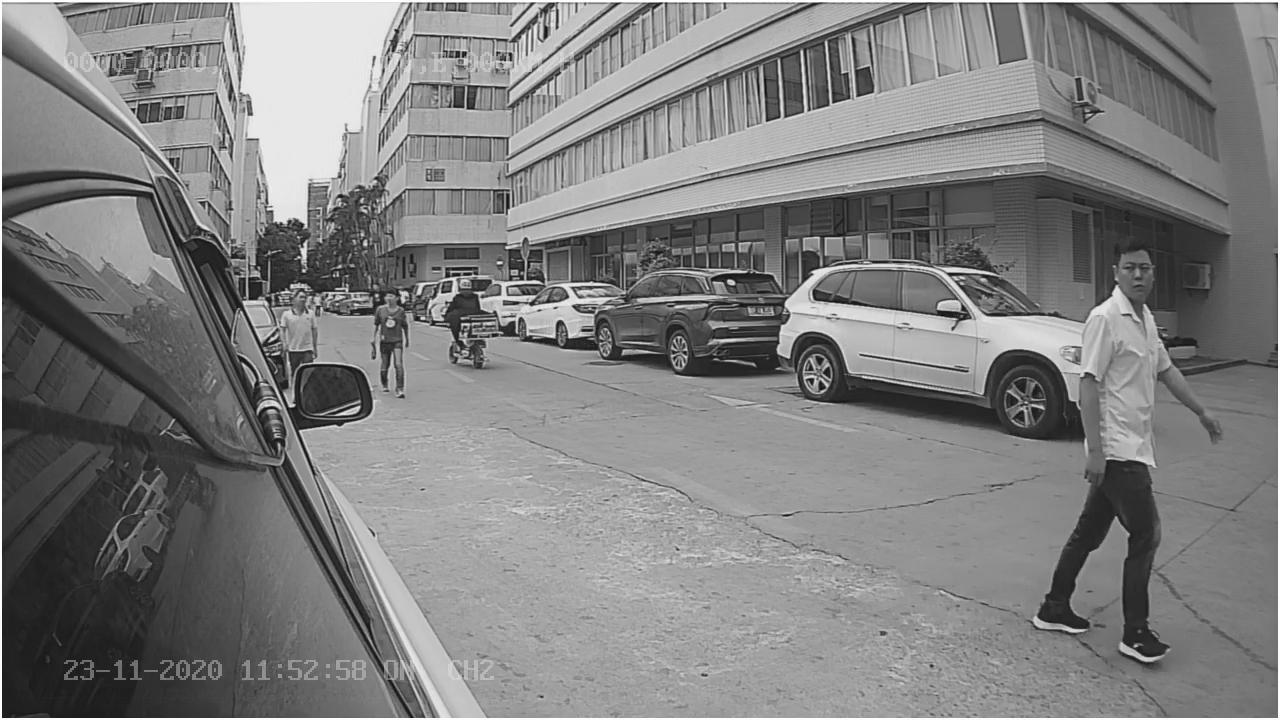person: (1068, 232, 1187, 656)
